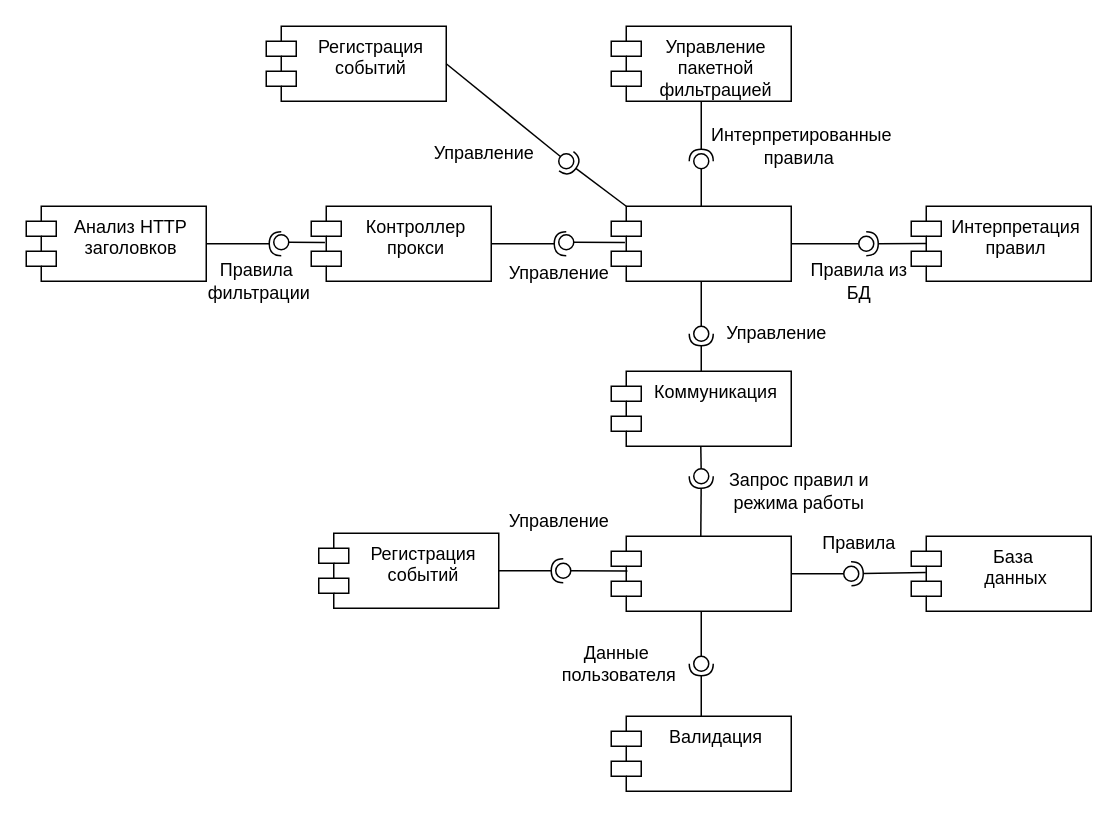
Image size: 1118x818. Some labels were removed from this diagram. Each missing label, with the centre of its shape:
"Контроллер агента" belongs at point (700, 243).
"Контроллер менеджера" belongs at point (700, 573).
